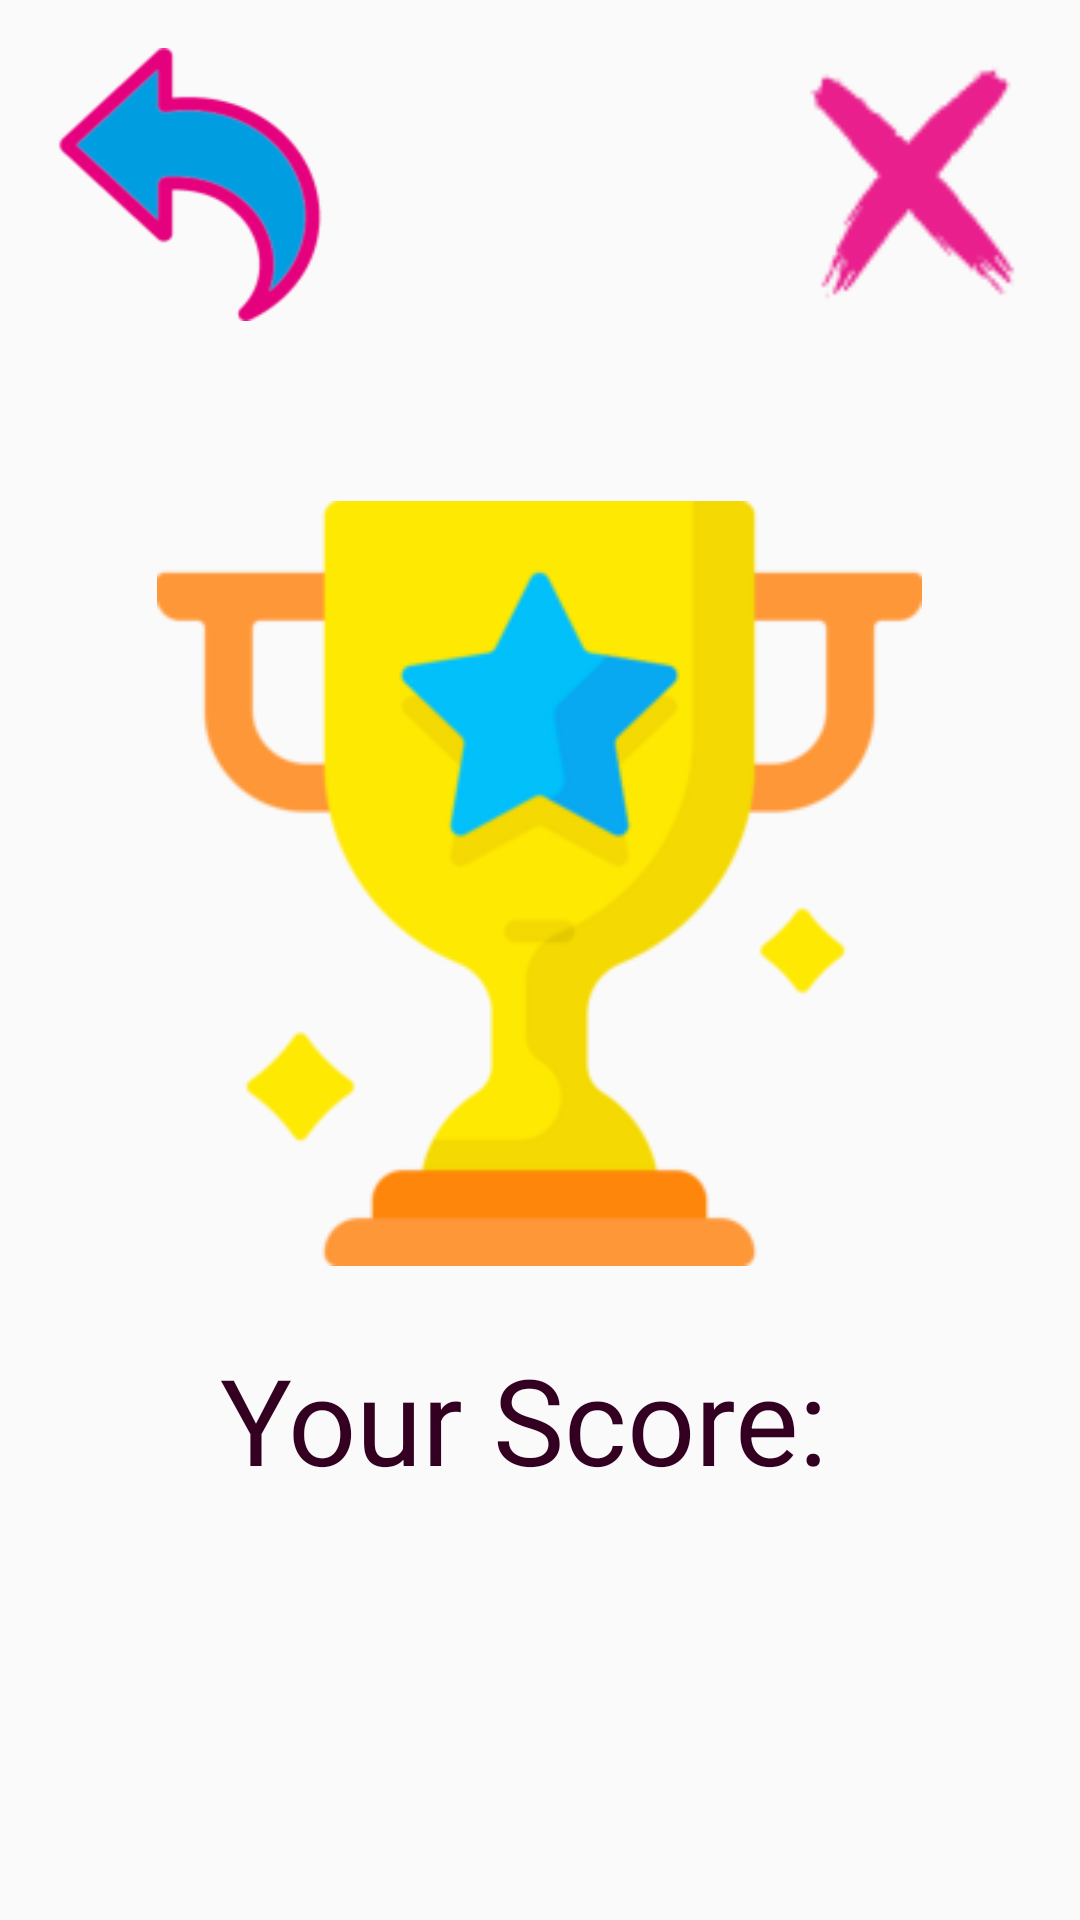

Named icons in this screenshot (1080px x 1920px) and their bounding boxes, [left=x1, top=y1, right=x2, bottom=y2]:
exit: [left=810, top=69, right=1014, bottom=297]
restart: [left=59, top=48, right=322, bottom=321]
